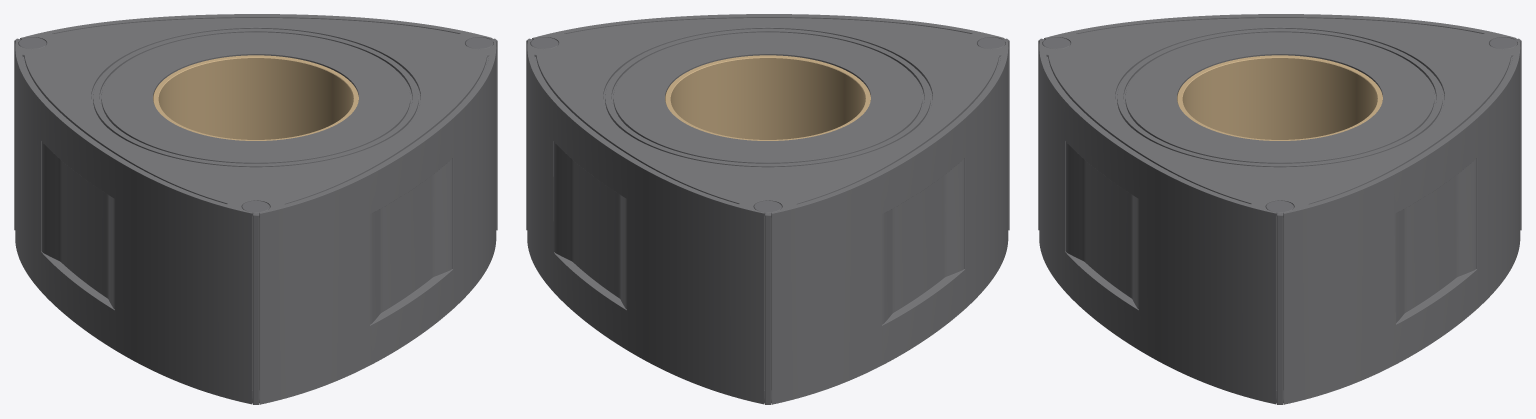
Rendered from wankel_rotor.glb.
3 views of the same model, side by side, from view 1: azimuth 30°, elevation 25°; view 2: azimuth 150°, elevation 25°; view 3: azimuth 270°, elevation 25° (orthographic).
Parts seen in each view (by area): view 1: rotor, rotor_bearing, rotor_seals; view 2: rotor, rotor_bearing, rotor_seals; view 3: rotor, rotor_bearing, rotor_seals.
Part boxes in pixels (<box>): rotor: <box>15,14,496,404</box>; rotor_bearing: <box>153,55,358,140</box>; rotor_seals: <box>14,37,497,404</box>; rotor: <box>527,14,1008,404</box>; rotor_bearing: <box>665,55,870,140</box>; rotor_seals: <box>526,37,1009,404</box>; rotor: <box>1039,14,1520,404</box>; rotor_bearing: <box>1177,55,1382,140</box>; rotor_seals: <box>1038,37,1521,404</box>.
Size of the model in its own units: 0.1797 by 0.0797 by 0.1829.
